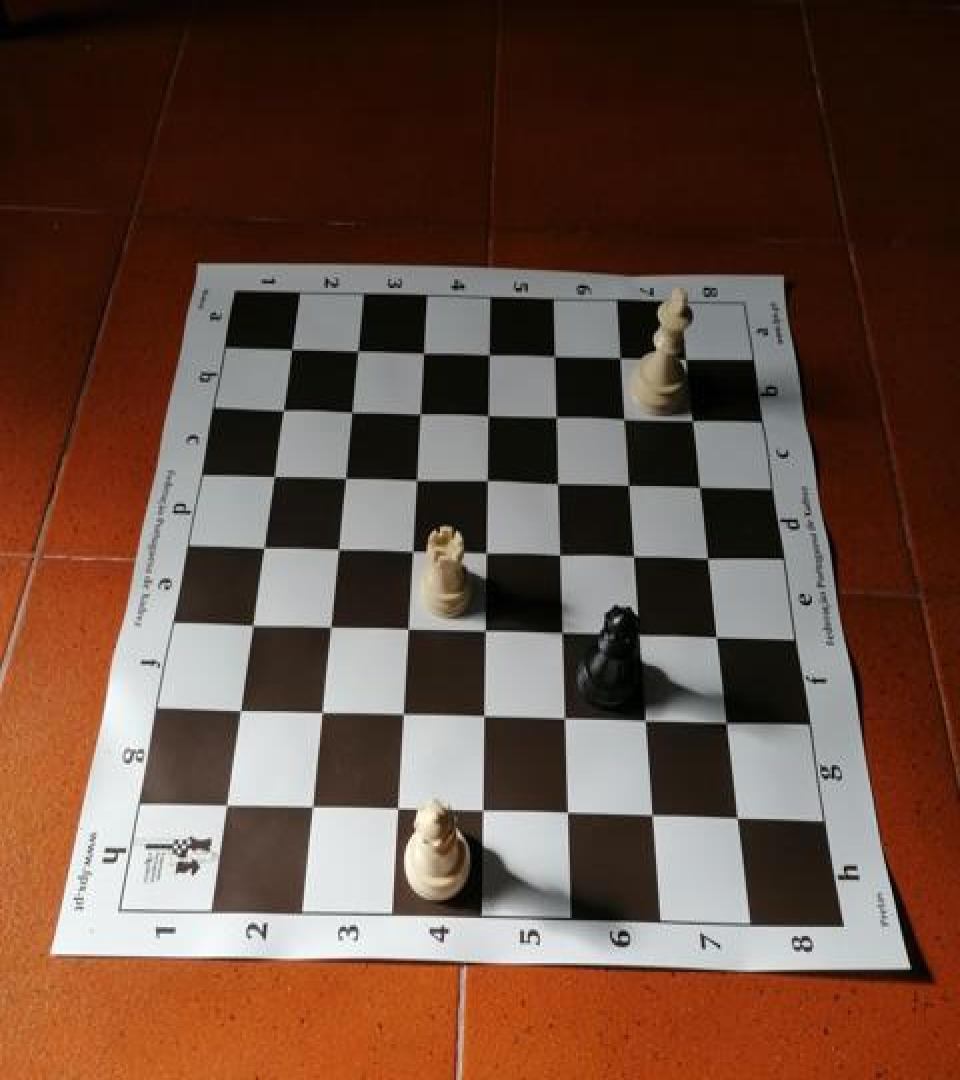xcorner: (673, 343, 703, 377), (606, 342, 636, 376), (539, 341, 569, 375), (472, 338, 502, 372), (338, 336, 368, 370), (271, 335, 301, 369), (680, 405, 710, 439), (610, 404, 640, 438), (541, 402, 571, 436), (471, 400, 501, 434), (401, 399, 431, 433), (332, 397, 362, 431), (263, 396, 293, 430), (687, 471, 717, 505), (614, 470, 644, 504), (542, 469, 572, 503), (470, 467, 500, 501), (325, 464, 355, 498), (253, 462, 283, 496), (694, 543, 724, 577), (619, 542, 649, 576), (544, 541, 574, 575), (468, 539, 498, 573), (393, 538, 423, 572), (318, 536, 348, 570), (243, 534, 273, 568), (703, 622, 733, 656), (624, 621, 654, 655), (545, 618, 575, 652), (467, 616, 497, 650), (388, 615, 418, 649), (310, 613, 340, 647), (232, 612, 262, 646), (629, 705, 659, 739), (547, 704, 577, 738), (465, 702, 495, 736), (383, 700, 413, 734), (301, 698, 331, 732), (219, 696, 249, 730), (721, 801, 751, 835), (635, 798, 665, 832), (549, 796, 579, 830), (463, 795, 493, 829), (378, 793, 408, 827), (292, 791, 322, 825), (206, 788, 236, 822), (405, 338, 435, 371), (397, 466, 427, 499), (712, 708, 742, 741)
